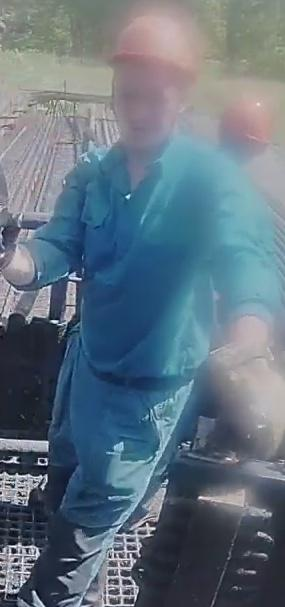gloves: (203, 330, 283, 464)
helmet: (106, 5, 195, 77), (220, 94, 276, 150)
vest: (53, 137, 285, 404)
